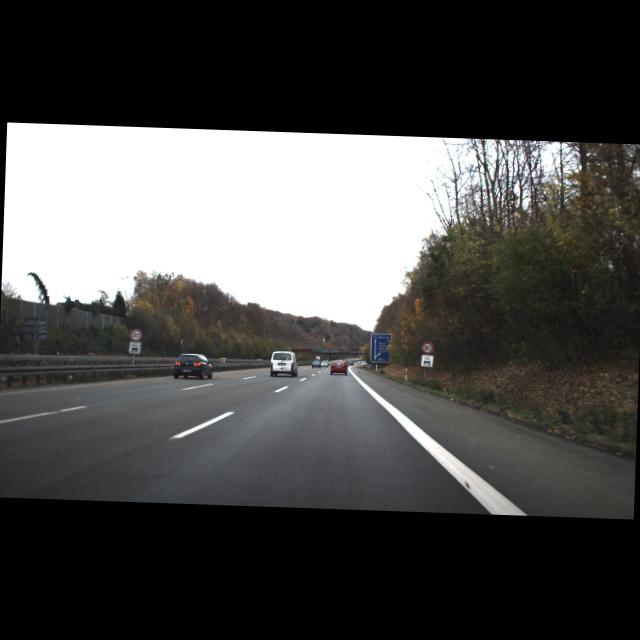prohibitory: (130, 328, 142, 341), (420, 340, 432, 353)
